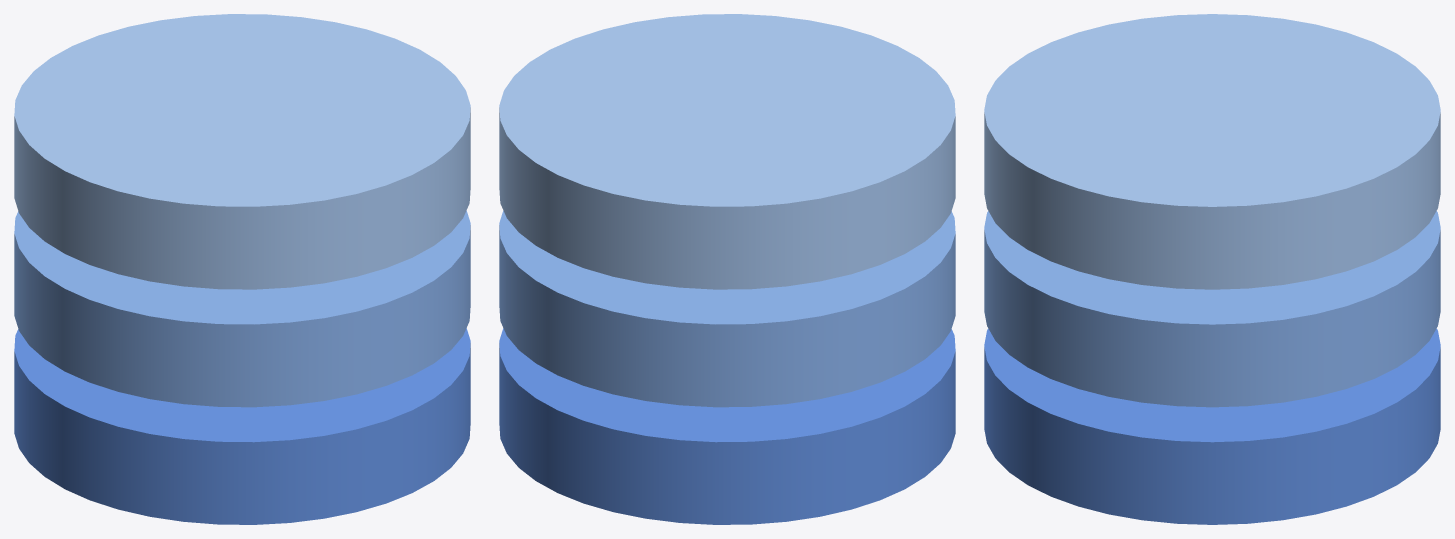
The model's file is database.gltf.
The picture shows the model from 3 angles, left to right: view 1: azimuth 30°, elevation 25°; view 2: azimuth 150°, elevation 25°; view 3: azimuth 270°, elevation 25°; orthographic projection.
Parts seen in each view (by area): view 1: DiskTop, DiskMid, DiskBottom; view 2: DiskTop, DiskMid, DiskBottom; view 3: DiskTop, DiskMid, DiskBottom.
Part boxes in pixels (x1,y1,x2,y2): DiskTop: (14, 14, 470, 289); DiskMid: (14, 211, 470, 407); DiskBottom: (14, 328, 470, 524); DiskTop: (499, 14, 955, 289); DiskMid: (499, 211, 955, 407); DiskBottom: (499, 328, 955, 524); DiskTop: (984, 14, 1440, 289); DiskMid: (984, 211, 1440, 407); DiskBottom: (984, 328, 1440, 524).
Bounding box in the file's own units: 1.9 × 1.46 × 1.9.
